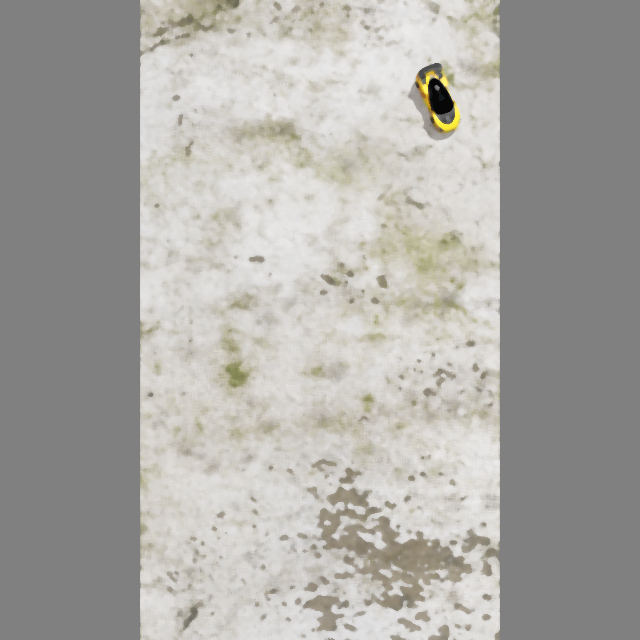car: (410, 59, 467, 138)
